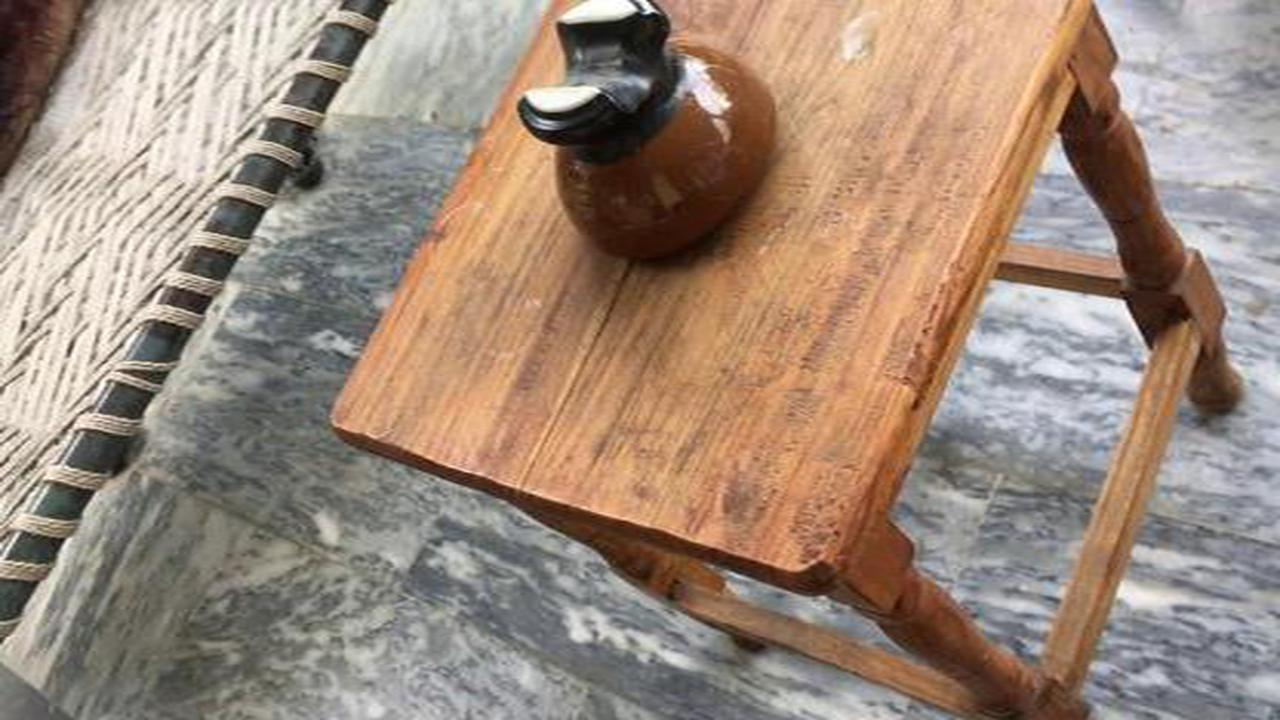insulator_pin: (490, 1, 791, 271)
